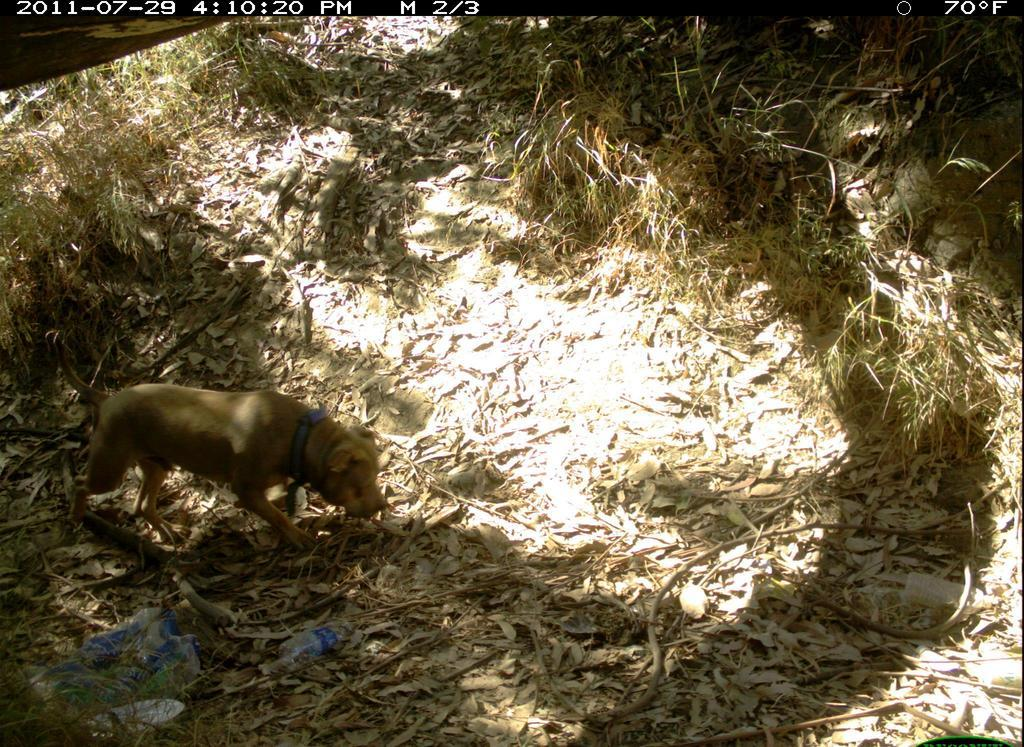dog: (44, 313, 400, 571)
